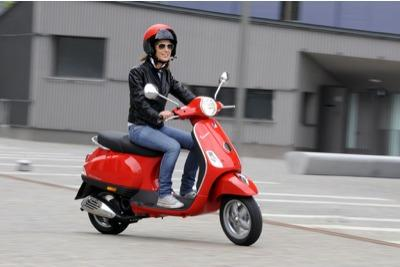helmet: (142, 24, 177, 62)
